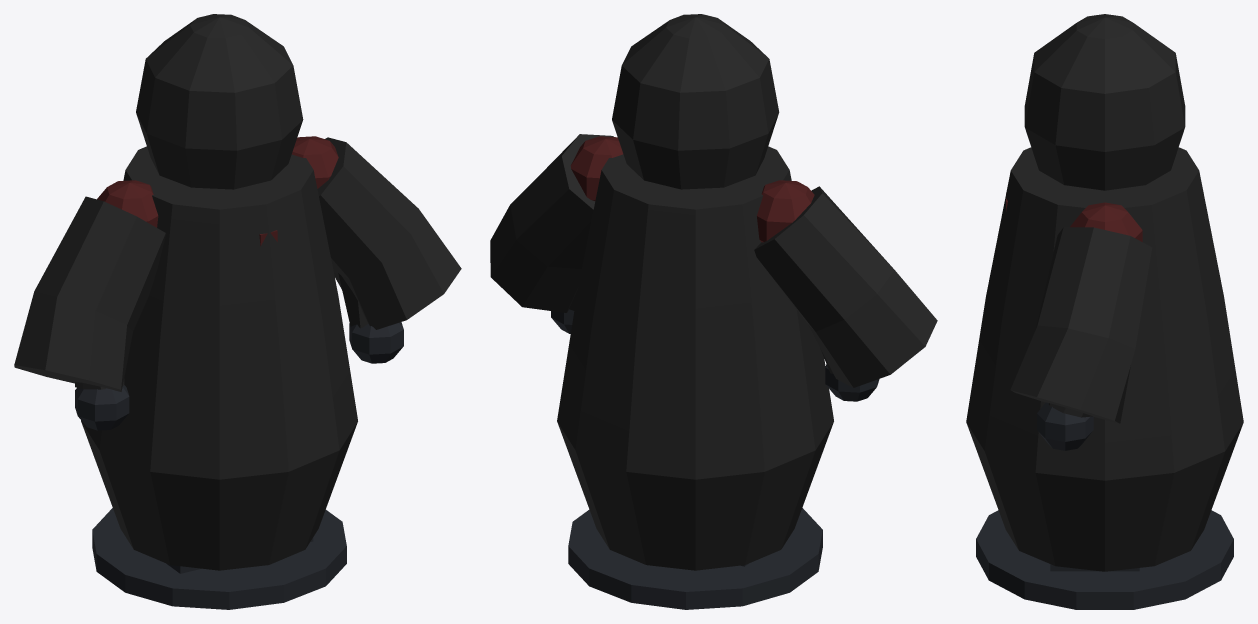
File: sith-acolyte-robe.glb
3 views of the same model, side by side, from view 1: azimuth 30°, elevation 25°; view 2: azimuth 150°, elevation 25°; view 3: azimuth 270°, elevation 25° (orthographic).
Visible parts, largest first — view 1: m; view 2: m; view 3: m.
Part boxes in pixels (bbox=[...]): m: bbox=[14, 14, 461, 609]; m: bbox=[490, 14, 937, 609]; m: bbox=[966, 14, 1243, 609].
Bounding box in the file's own units: 0.4737 × 0.56 × 0.2613.
